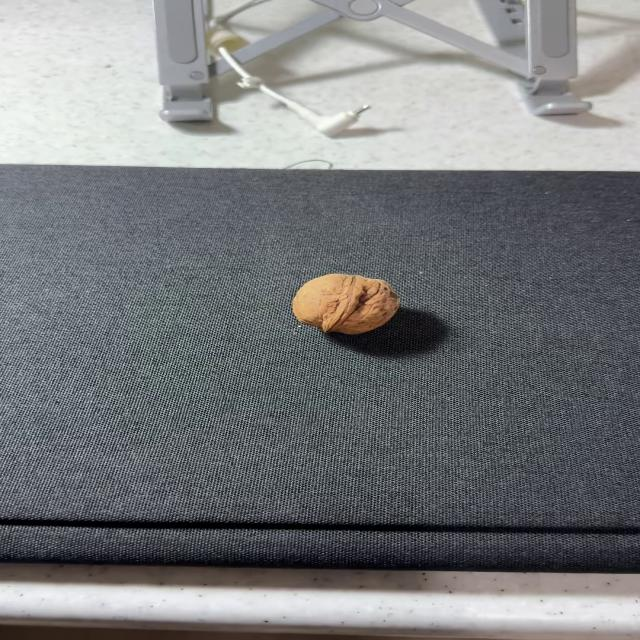nuts-good: (293, 274, 399, 335)
